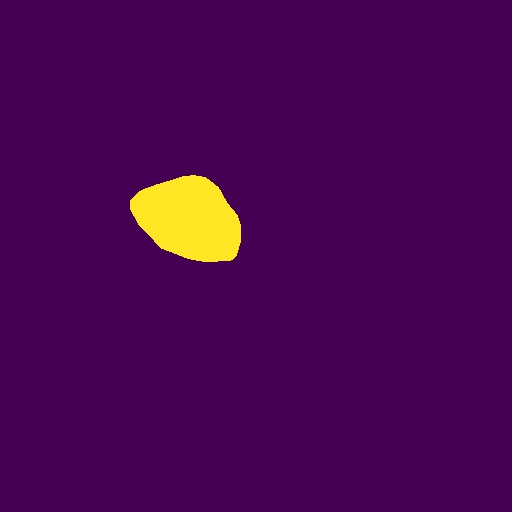Gliomia_tumour: (130, 175, 241, 262)
